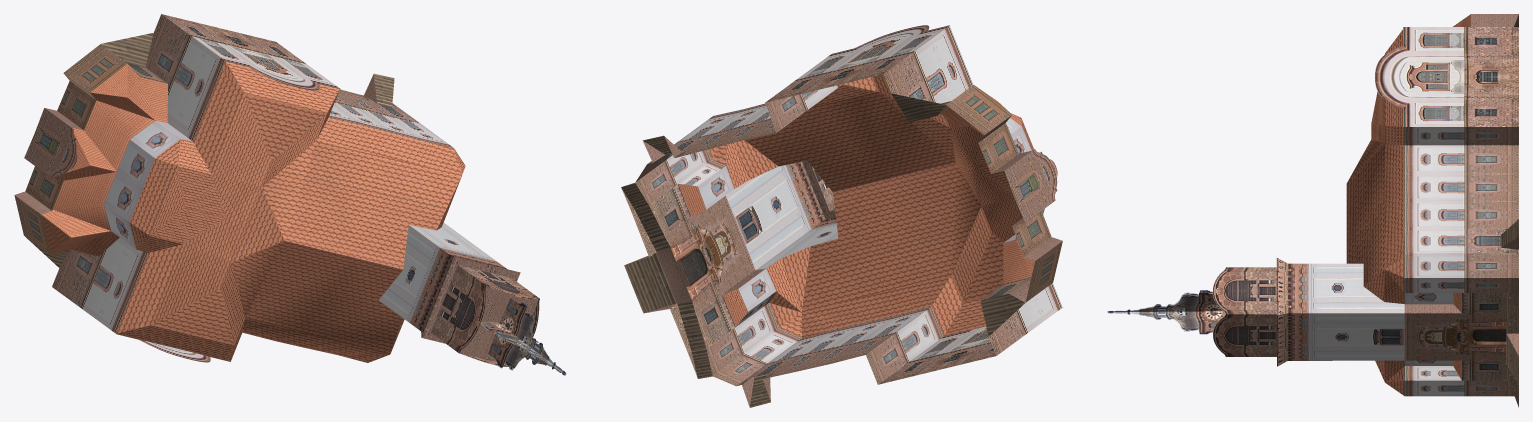
Rendered from DEU_595_KARLSRUHE_AUFERST_S.OBJ.
The picture shows the model from 3 angles, left to right: view 1: azimuth 30°, elevation 25°; view 2: azimuth 150°, elevation 25°; view 3: azimuth 270°, elevation 25°; orthographic projection. The views are drawn at different scales.
Visible parts, largest first — view 1: DEU_595_KARLSRUHE_AUFERST_S_DEU_595_KARLSRUHE_AUFERST; view 2: DEU_595_KARLSRUHE_AUFERST_S_DEU_595_KARLSRUHE_AUFERST; view 3: DEU_595_KARLSRUHE_AUFERST_S_DEU_595_KARLSRUHE_AUFERST.
Boxes of the visible parts, x1,y1,x2,y2 form: DEU_595_KARLSRUHE_AUFERST_S_DEU_595_KARLSRUHE_AUFERST: [14, 14, 566, 375]; DEU_595_KARLSRUHE_AUFERST_S_DEU_595_KARLSRUHE_AUFERST: [621, 25, 1062, 407]; DEU_595_KARLSRUHE_AUFERST_S_DEU_595_KARLSRUHE_AUFERST: [1107, 14, 1518, 407].
Bounding box in the file's own units: 37.5 × 31.71 × 37.35.
Materials: 1 (1 with a texture image).
